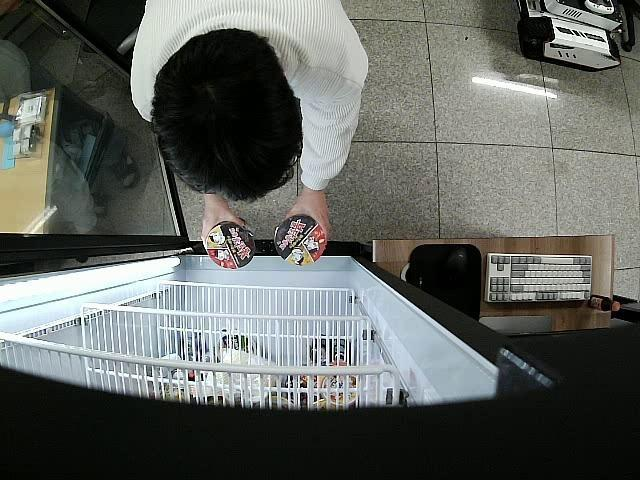07_buldak_L: (206, 216, 256, 269), (274, 217, 325, 267)
